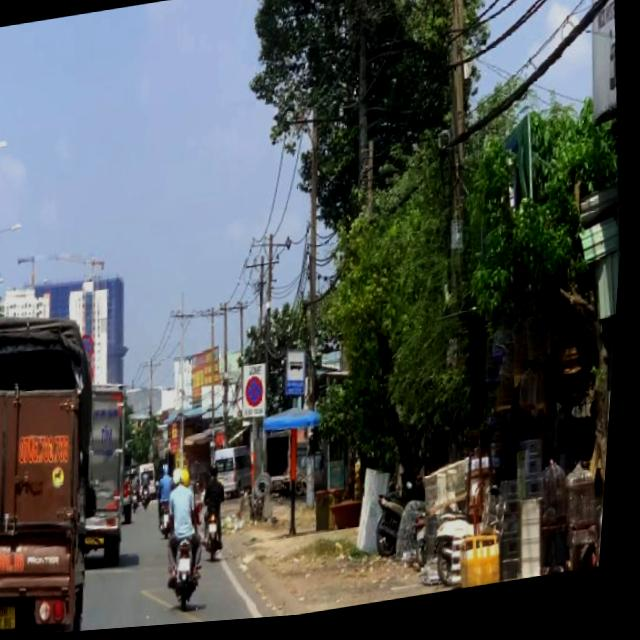Cam dung xe va do xe: (249, 378, 271, 412)
